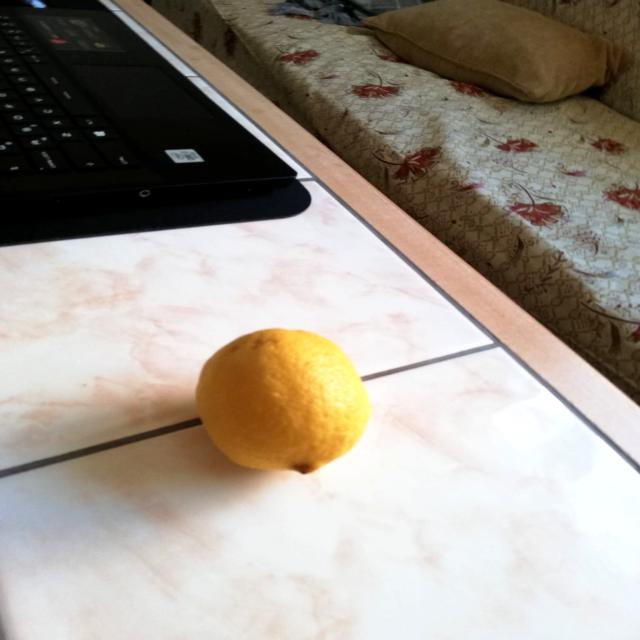lemon: (189, 321, 375, 481)
